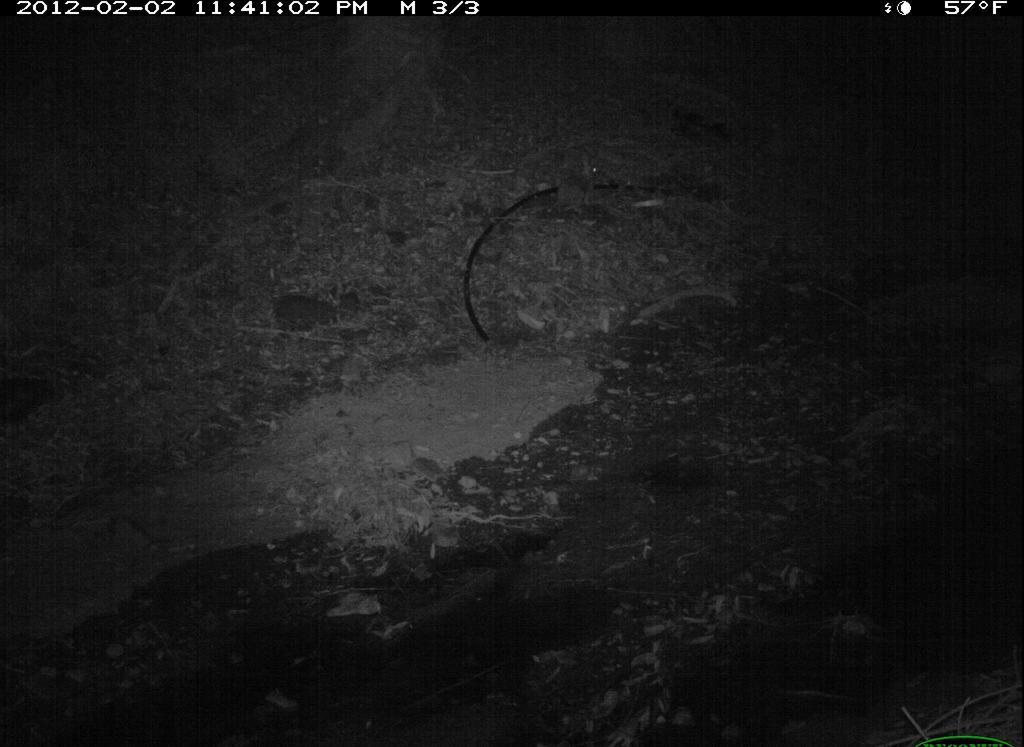rabbit: (537, 149, 609, 221)
